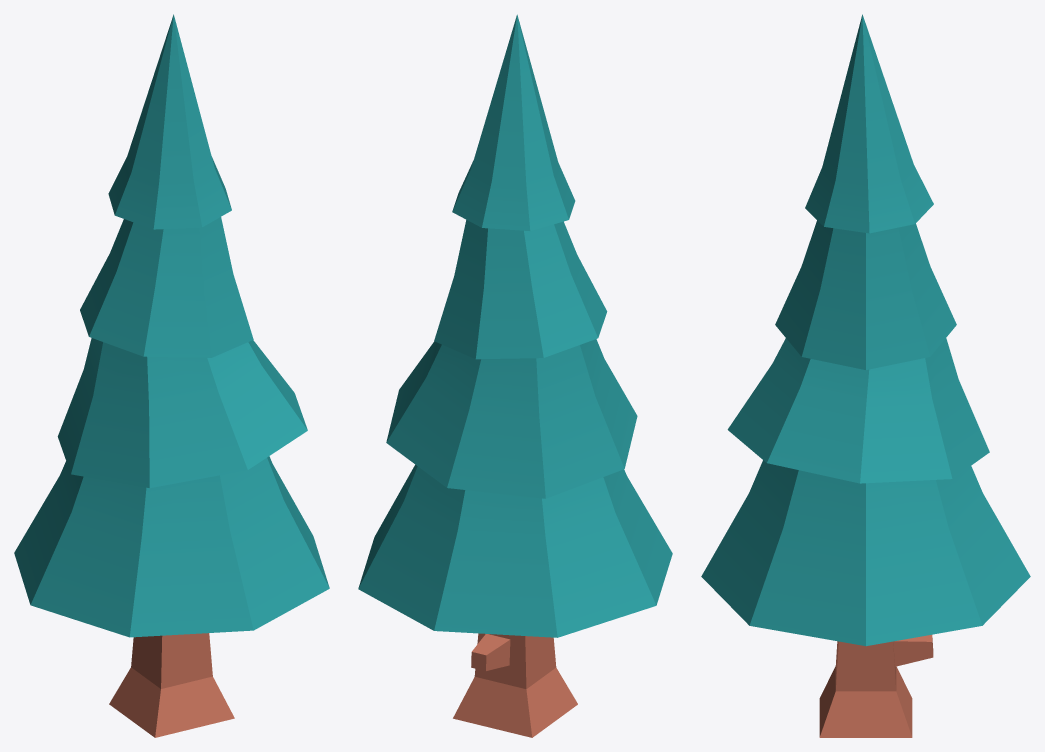
Rendered from tree_pineRoundF.glb.
The picture shows the model from 3 angles, left to right: view 1: azimuth 30°, elevation 25°; view 2: azimuth 150°, elevation 25°; view 3: azimuth 270°, elevation 25°; orthographic projection.
Visible parts, largest first — view 1: tree_pineRoundF; view 2: tree_pineRoundF; view 3: tree_pineRoundF.
Part boxes in pixels (x1,y1,x2,y2): tree_pineRoundF: [14, 14, 329, 737]; tree_pineRoundF: [358, 14, 672, 737]; tree_pineRoundF: [701, 14, 1030, 737].
Bounding box in the file's own units: 0.532 × 1.25 × 0.532.
